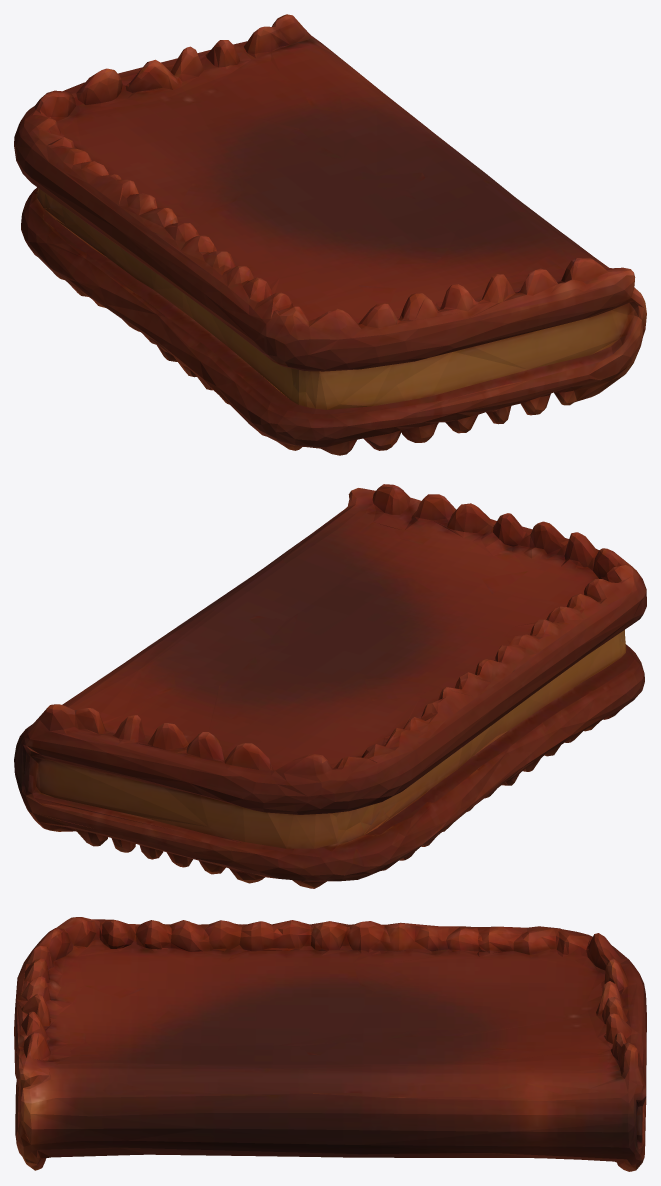
3 views of the same model, one above another, from view 1: azimuth 30°, elevation 25°; view 2: azimuth 150°, elevation 25°; view 3: azimuth 270°, elevation 25° (orthographic). The views are drawn at different scales.
Visible parts, largest first — view 1: geometry_0; view 2: geometry_0; view 3: geometry_0.
Boxes of the visible parts, x1,y1,x2,y2 form: geometry_0: (14, 14, 646, 455); geometry_0: (14, 484, 646, 888); geometry_0: (14, 917, 646, 1171).
Bounding box in the file's own units: 0.608 × 0.2386 × 0.9974.
1 material, 1 textured.
